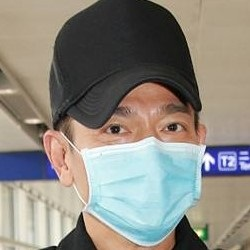mask: (57, 131, 203, 245)
